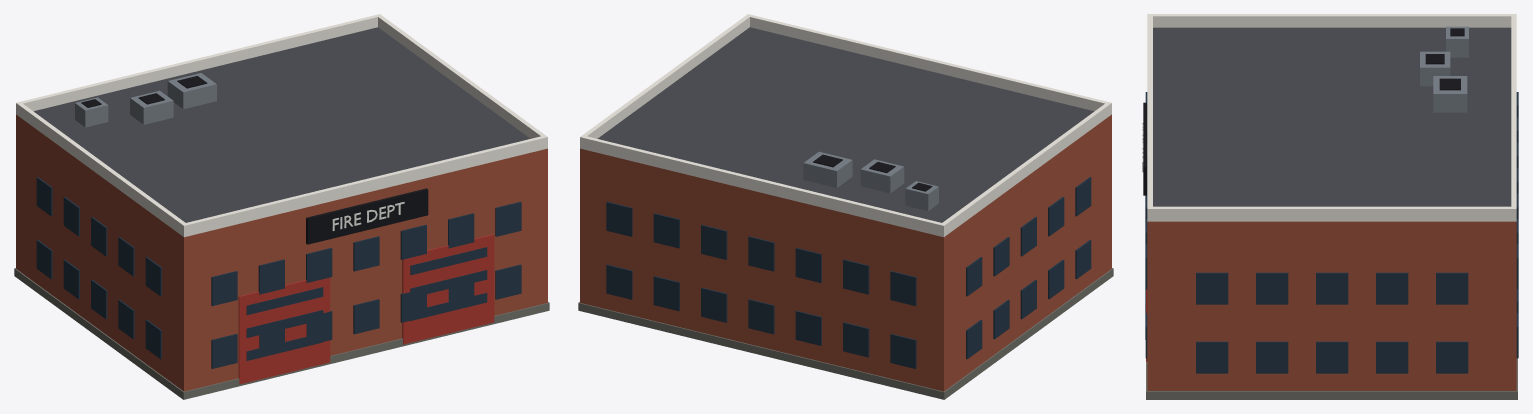
Rendered from fire_station.glb.
3 views of the same model, side by side, from view 1: azimuth 30°, elevation 25°; view 2: azimuth 150°, elevation 25°; view 3: azimuth 270°, elevation 25° (orthographic). The views are drawn at different scales.
Parts seen in each view (by area): view 1: fire_station_Body, fire_station_SignBoard, fire_station_Sign; view 2: fire_station_Body; view 3: fire_station_Body, fire_station_SignBoard.
Part boxes in pixels (x1,y1,x2,y2): fire_station_Body: (14,14,549,399); fire_station_SignBoard: (306,188,428,244); fire_station_Sign: (332,202,404,230); fire_station_Body: (578,14,1113,399); fire_station_Body: (1145,14,1518,399); fire_station_SignBoard: (1143,102,1146,195).
Bounding box in the file's own units: 20.16 × 9.49 × 16.3.
